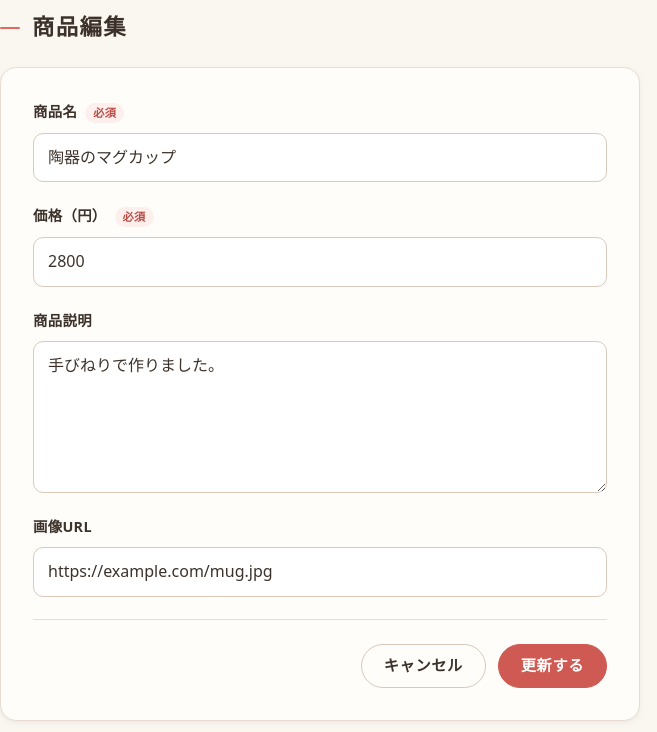
Test: 商品編集画面 › 送信中はボタンを押せない（二重送信の防止）
This screenshot has width=657, height=732.
Expected: the field labelled "商品名 必須" is shown, x1=33 y1=133 x2=607 y2=182
Click the button "更新する" at (552, 666), box x1=498 y1=644 x2=607 y2=688
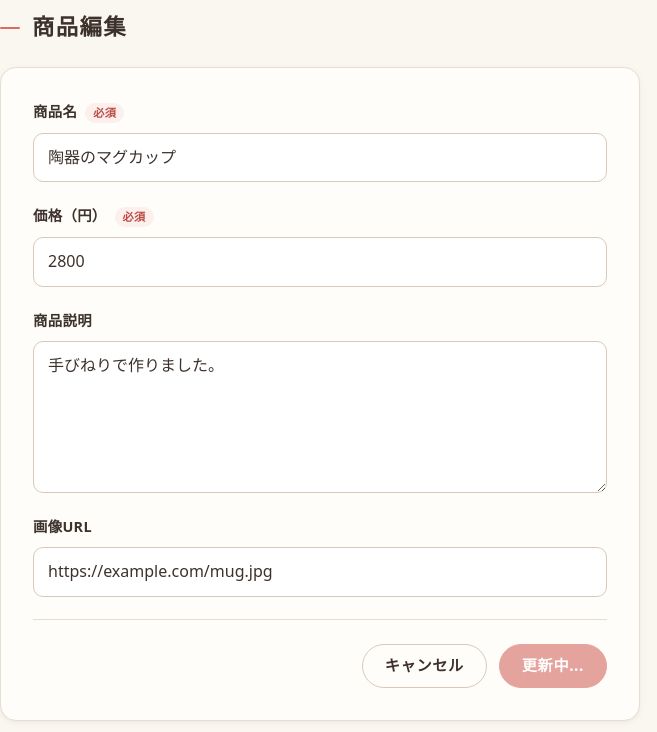
Expected: the button "更新中..." is disabled, x1=499 y1=644 x2=607 y2=688
